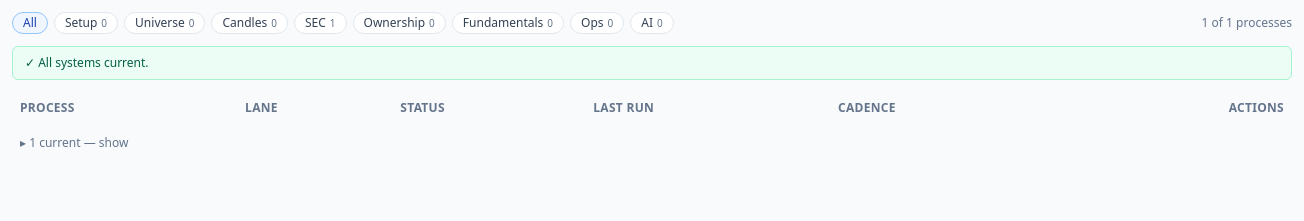
Test: ProcessesTable › reveals the collapsed rows when the disclosure is clicked
Click the button "▸ 1 current — show" at x=74, y=143, box [20, 135, 128, 151]
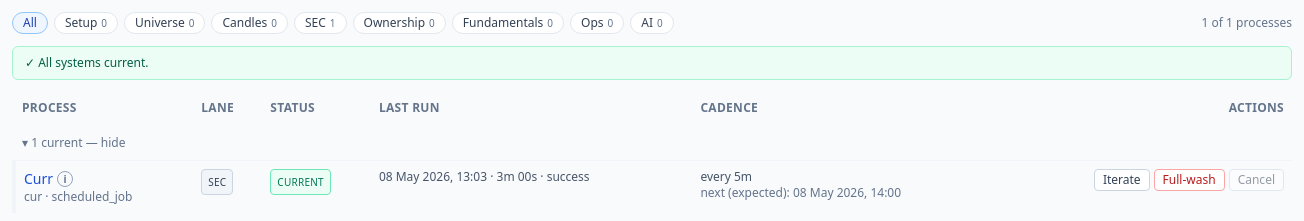
expect the link "Curr" is shown: met, box [24, 169, 53, 189]
